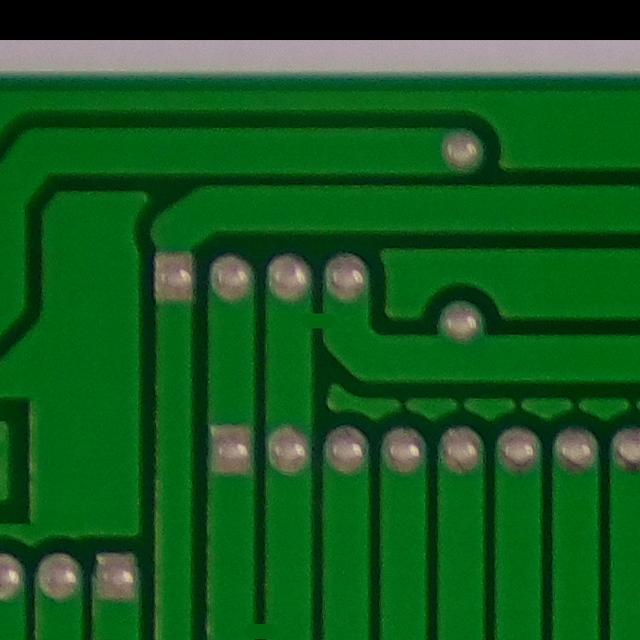short: (279, 277, 361, 362)
